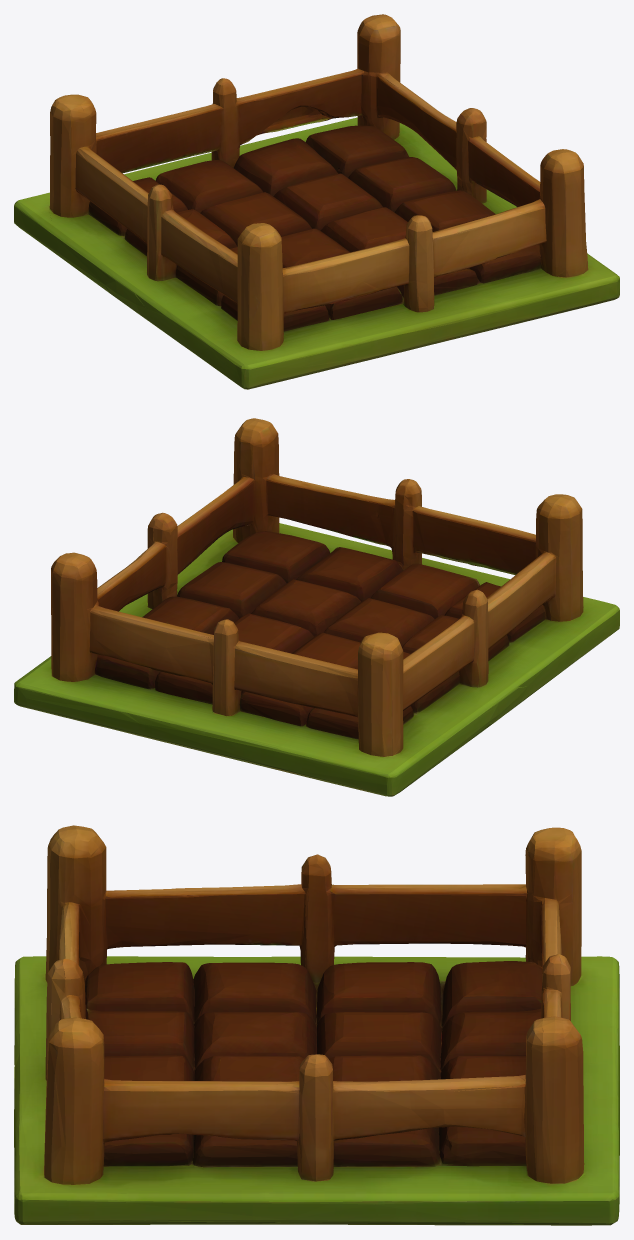
File: empty_farm_land.glb
3 views of the same model, one above another, from view 1: azimuth 30°, elevation 25°; view 2: azimuth 150°, elevation 25°; view 3: azimuth 270°, elevation 25° (orthographic). The views are drawn at different scales.
Visible parts, largest first — view 1: geometry_0; view 2: geometry_0; view 3: geometry_0.
Boxes of the visible parts, x1=… form: geometry_0: x1=14, y1=14, x2=619, y2=389; geometry_0: x1=14, y1=418, x2=619, y2=796; geometry_0: x1=14, y1=825, x2=619, y2=1225.
Size of the model in its own units: 0.9505 by 0.3348 by 0.9998.
1 material, 1 textured.
